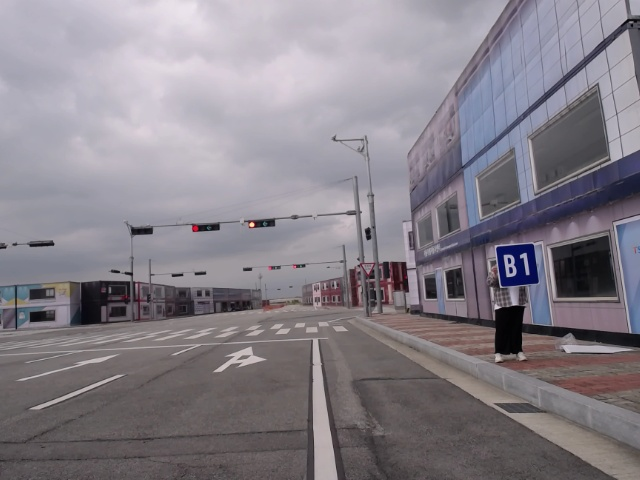delivery_b1: (495, 243, 540, 288)
left_green_4: (192, 223, 220, 232), (248, 220, 275, 228), (267, 266, 281, 270), (292, 264, 306, 268)
